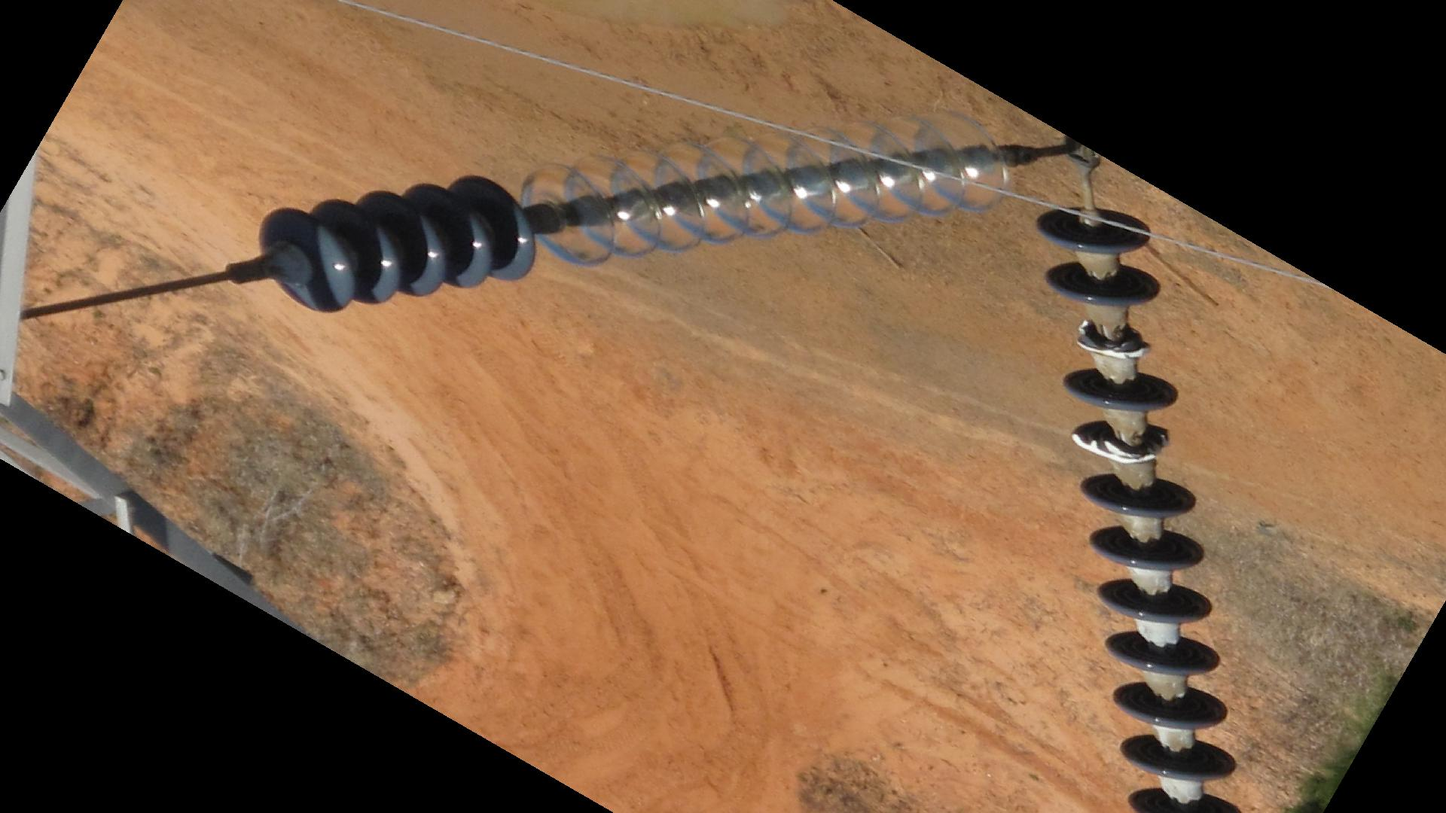insulator: (1035, 201, 1251, 813), (255, 167, 544, 318)
insulator_breakage: (1065, 426, 1179, 466), (1072, 313, 1156, 363)
